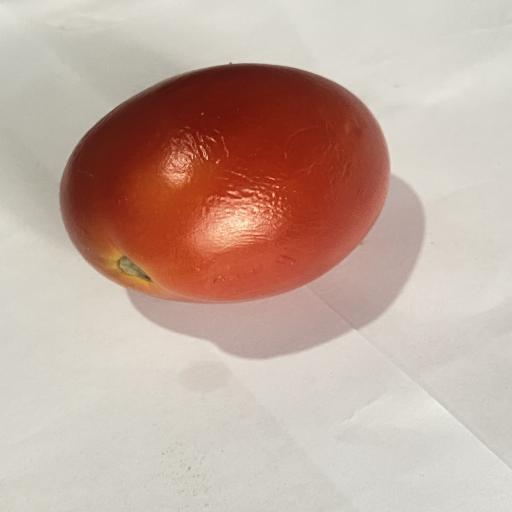spoiled: (60, 64, 390, 302)
